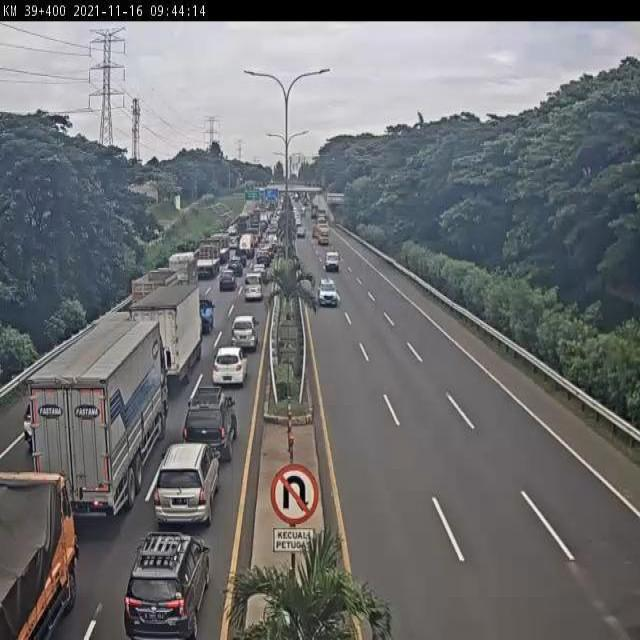car: (111, 530, 219, 640), (154, 447, 220, 531), (182, 380, 243, 451), (212, 340, 248, 389), (230, 311, 258, 348), (318, 279, 339, 309), (243, 271, 262, 304), (199, 299, 216, 331), (220, 273, 238, 295), (325, 252, 341, 273)
truck: (24, 320, 165, 513), (0, 465, 80, 640), (133, 282, 204, 386), (132, 259, 173, 301), (169, 251, 201, 279), (198, 243, 220, 279)
